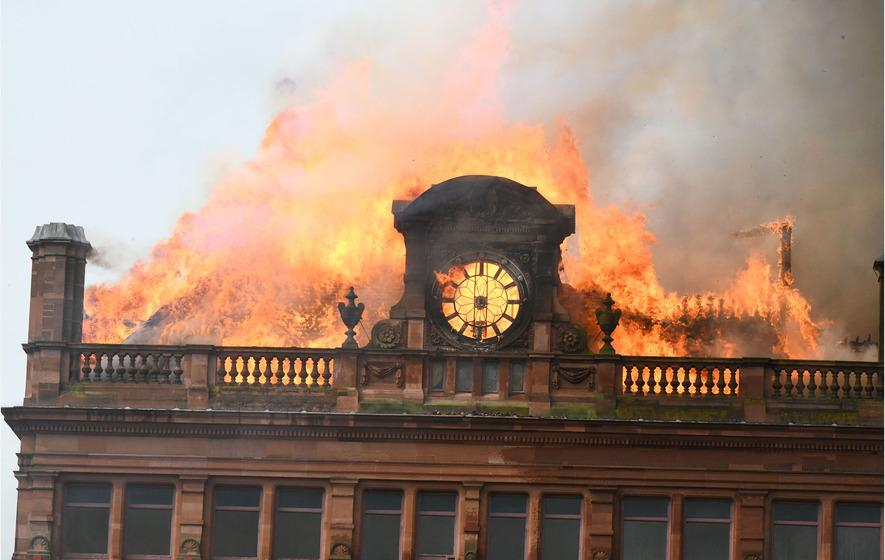Fire: (76, 71, 860, 415)
